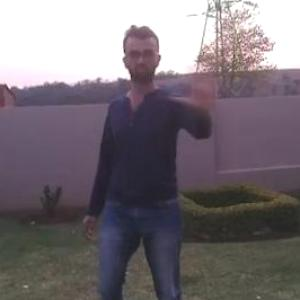follow_hand: (170, 53, 226, 111)
